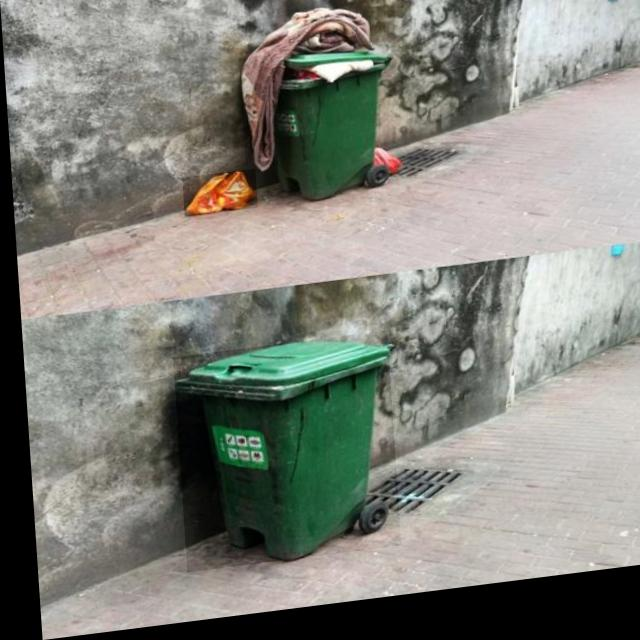garbage: (179, 175, 254, 221), (367, 154, 397, 186)
overflow: (168, 340, 393, 576), (235, 8, 396, 215)
